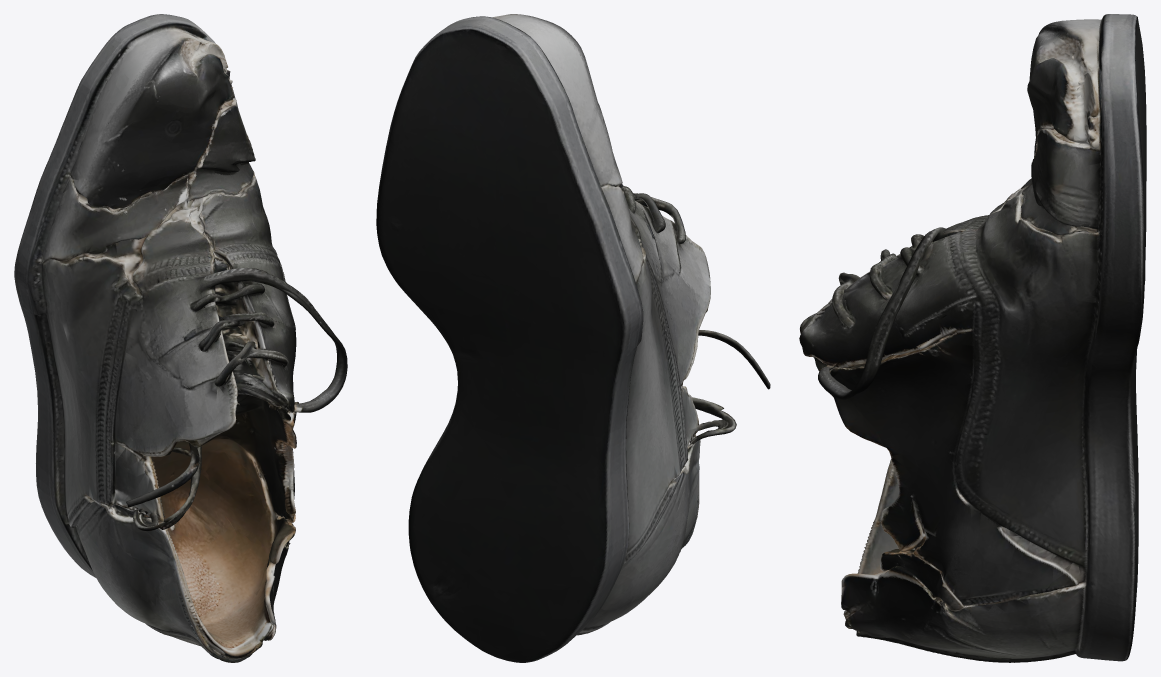
The model's file is shoe.fbx.
The picture shows the model from 3 angles, left to right: view 1: azimuth 30°, elevation 25°; view 2: azimuth 150°, elevation 25°; view 3: azimuth 270°, elevation 25°; orthographic projection. The views are drawn at different scales.
Parts seen in each view (by area): view 1: tripo_node_7f8cca5e; view 2: tripo_node_7f8cca5e; view 3: tripo_node_7f8cca5e.
Boxes of the visible parts, left/top/right/bottom form: tripo_node_7f8cca5e: left=14, top=14, right=347, bottom=662; tripo_node_7f8cca5e: left=376, top=14, right=770, bottom=662; tripo_node_7f8cca5e: left=799, top=14, right=1146, bottom=662.
Bounding box in the file's own units: 41.75 × 47.59 × 97.97.
1 material, 1 textured.
